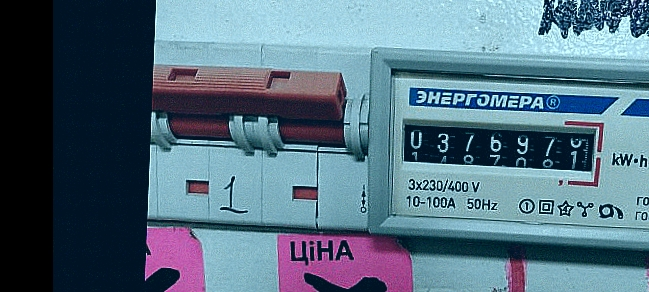0: (408, 127, 424, 150)
1: (568, 148, 578, 171)
3: (436, 131, 450, 153)
6: (488, 129, 504, 153)
7: (462, 129, 477, 153), (542, 132, 557, 156)
9: (515, 132, 530, 155)
screen: (391, 109, 608, 190)
